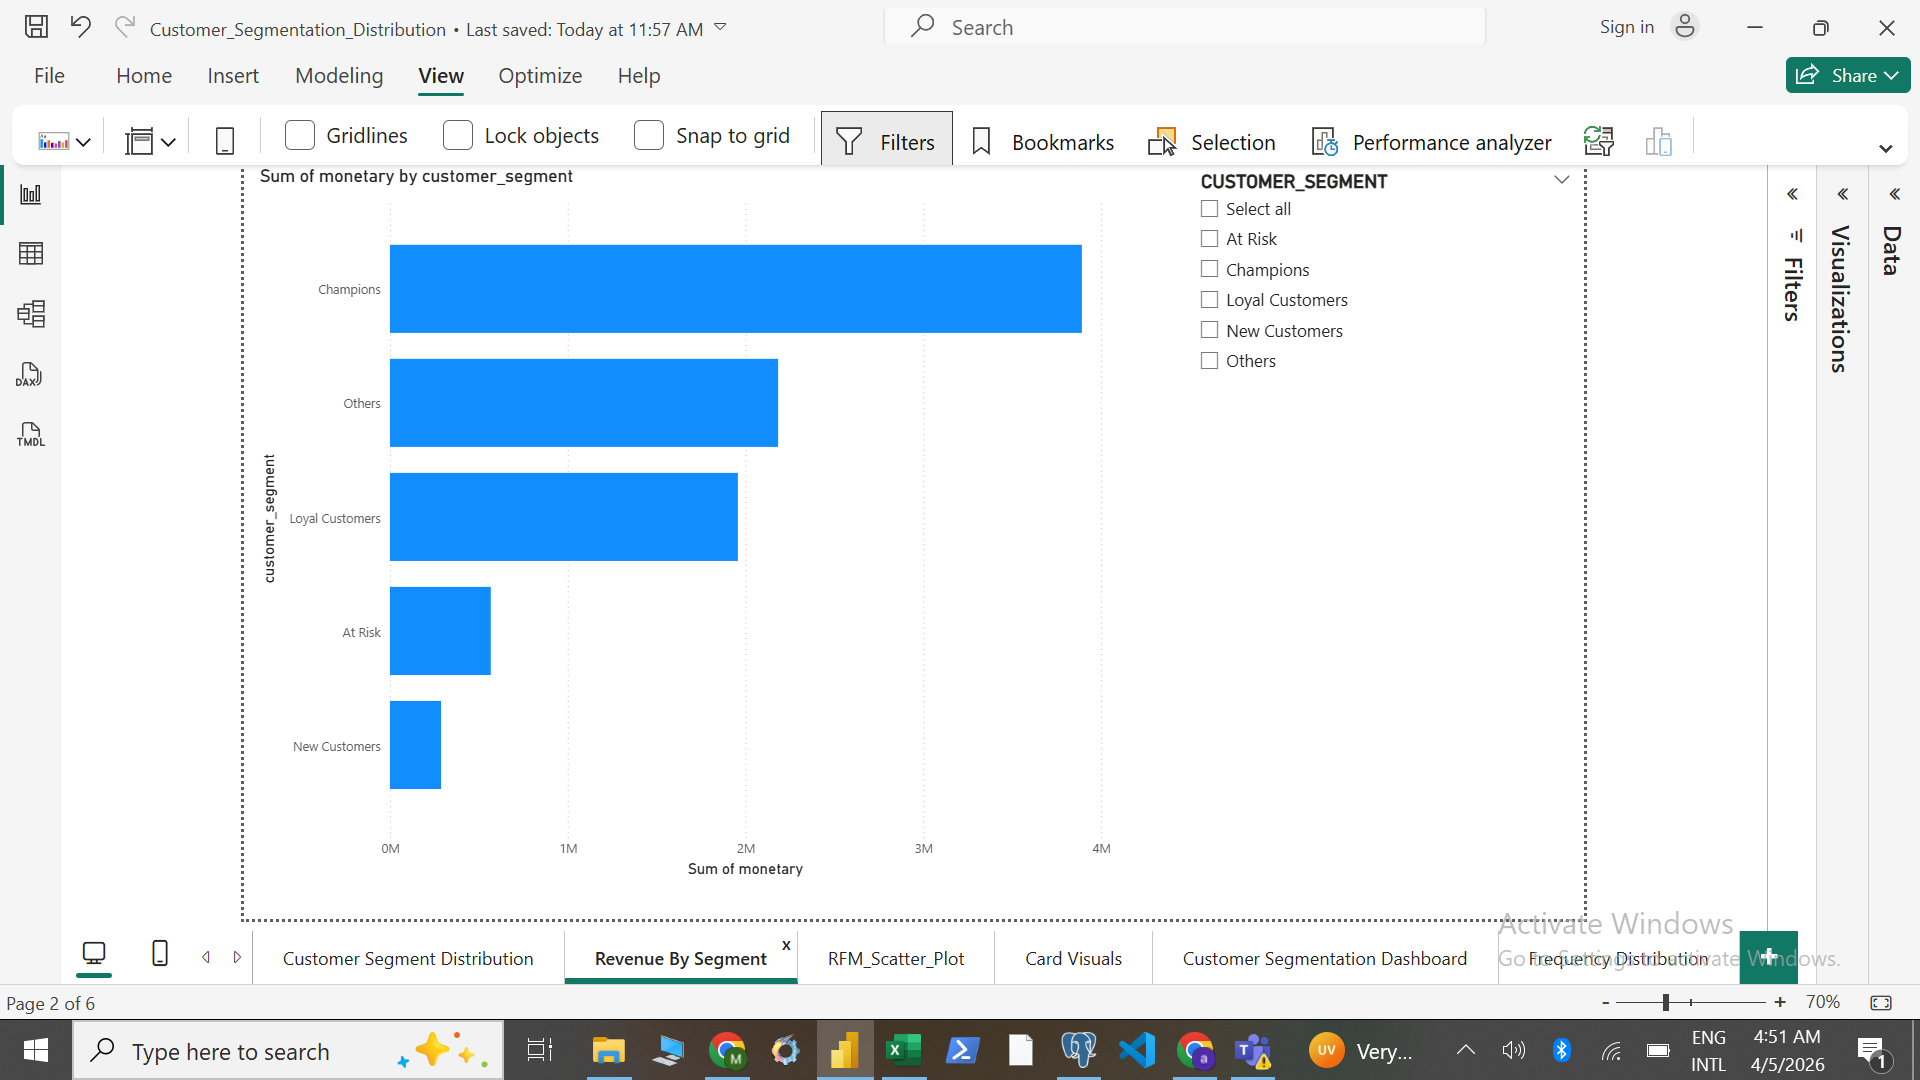

The page's visual inventory and layout, read from the dashboard file:
{"tool":"powerbi","page":{"name":"Revenue By Segment","canvas":[1280,720],"ordinal":1},"visuals":[{"type":"barChart","fields":{"Category":["customer_segmentation.customer_segment"],"Y":["Sum(customer_segmentation.monetary)"]},"box":[9.4,0,822.1,684.1],"z":0},{"type":"slicer","fields":{"Values":["customer_segmentation.customer_segment"]},"box":[901.4,0,378,355.3],"z":1000}]}

Visuals, with their boxes on the page's 1280x720 design canvas (x1, y1, x2, y2). These are canvas units, not pixel positions in the 1920x1080 screenshot, which may show the page scaled, cropped or inside an application window:
barChart - customer_segmentation.customer_segment x Sum(customer_segmentation.monetary): rect(9, 0, 832, 684)
slicer - customer_segmentation.customer_segment: rect(901, 0, 1279, 355)
